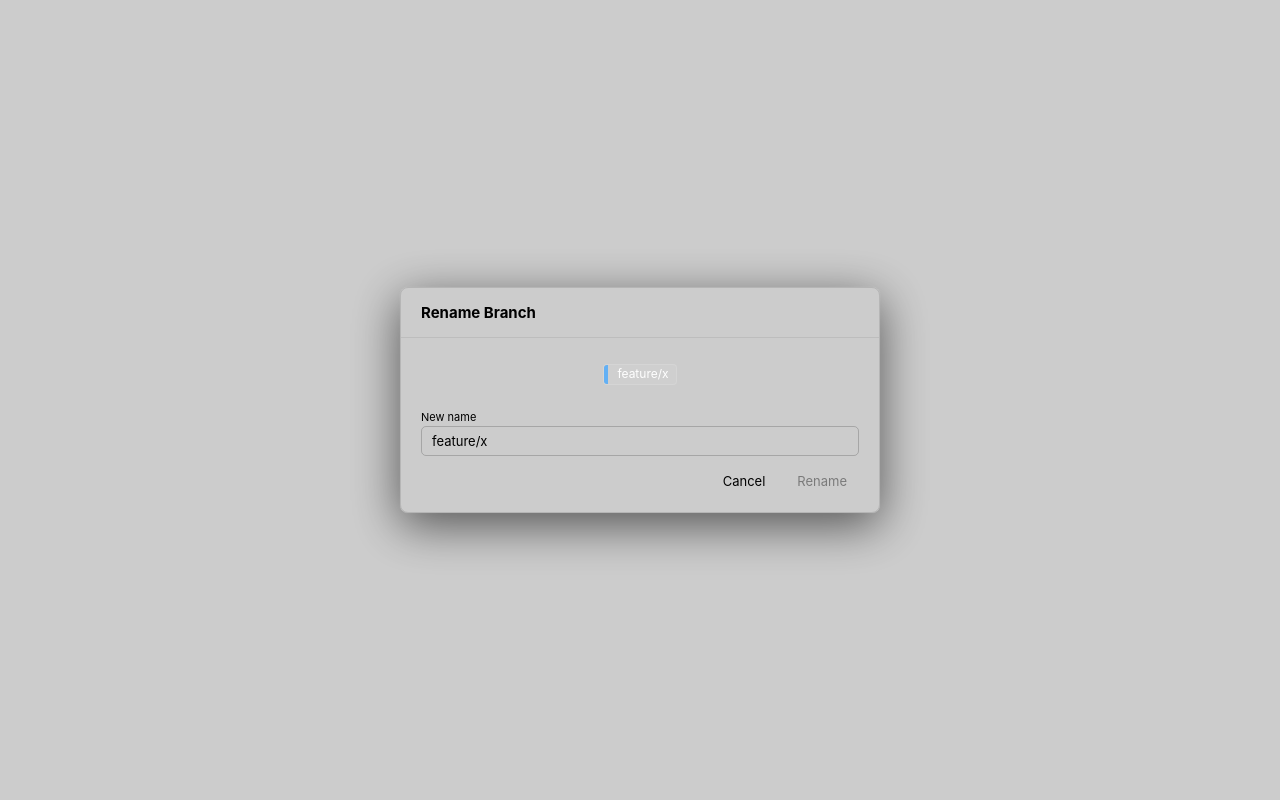
Test case: RenameBranchModal › enables submit when the user changes the name to something valid
Replace the text in the field with id "rename-branch-input" with "feature/y" at (640, 441), box [421,426,859,456]
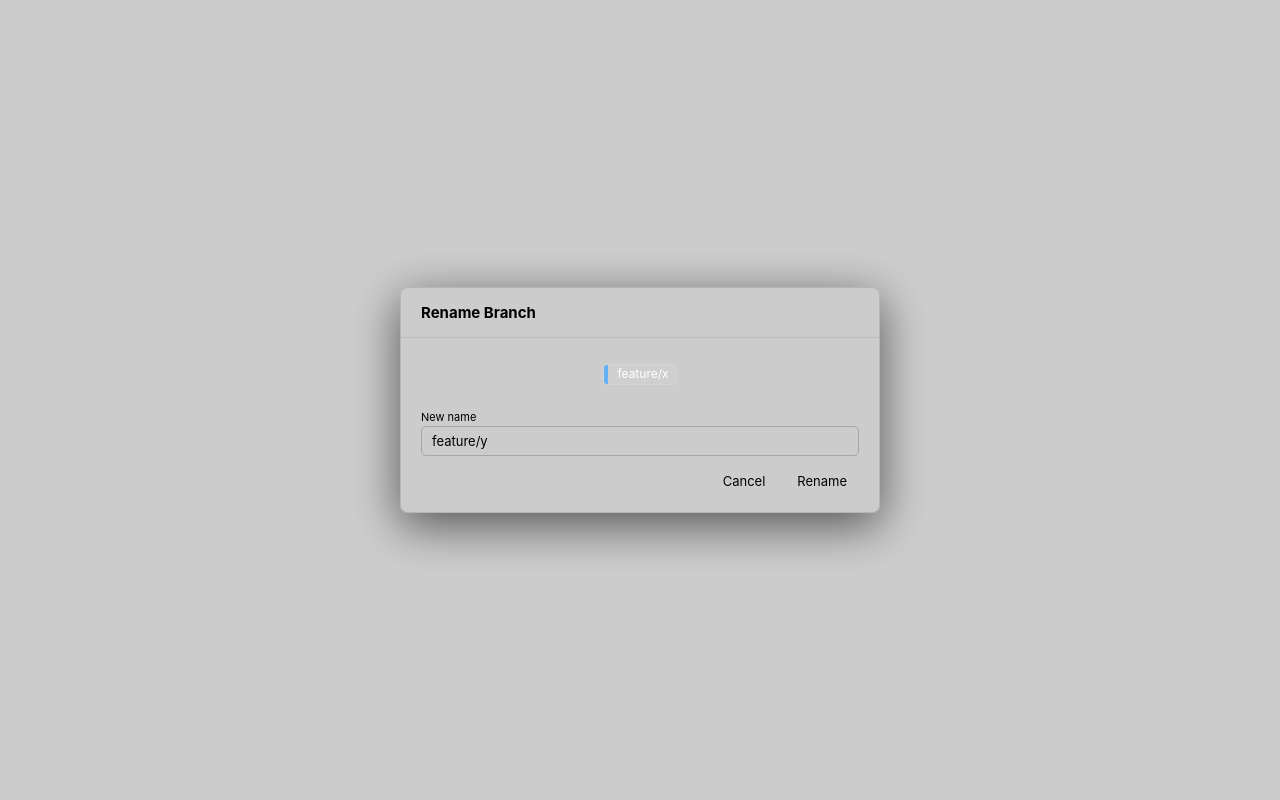
Expected: the button "Rename" is enabled, [785,468,859,494]
